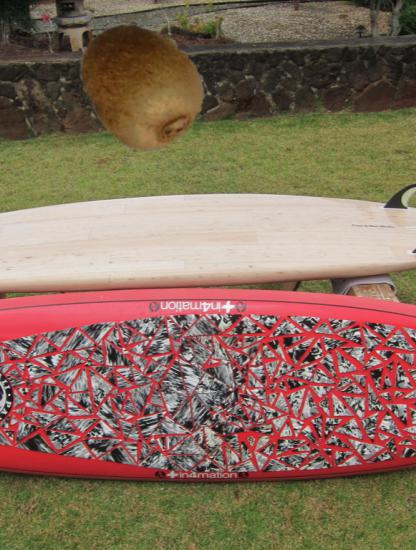Kiwi: (72, 19, 206, 153)
